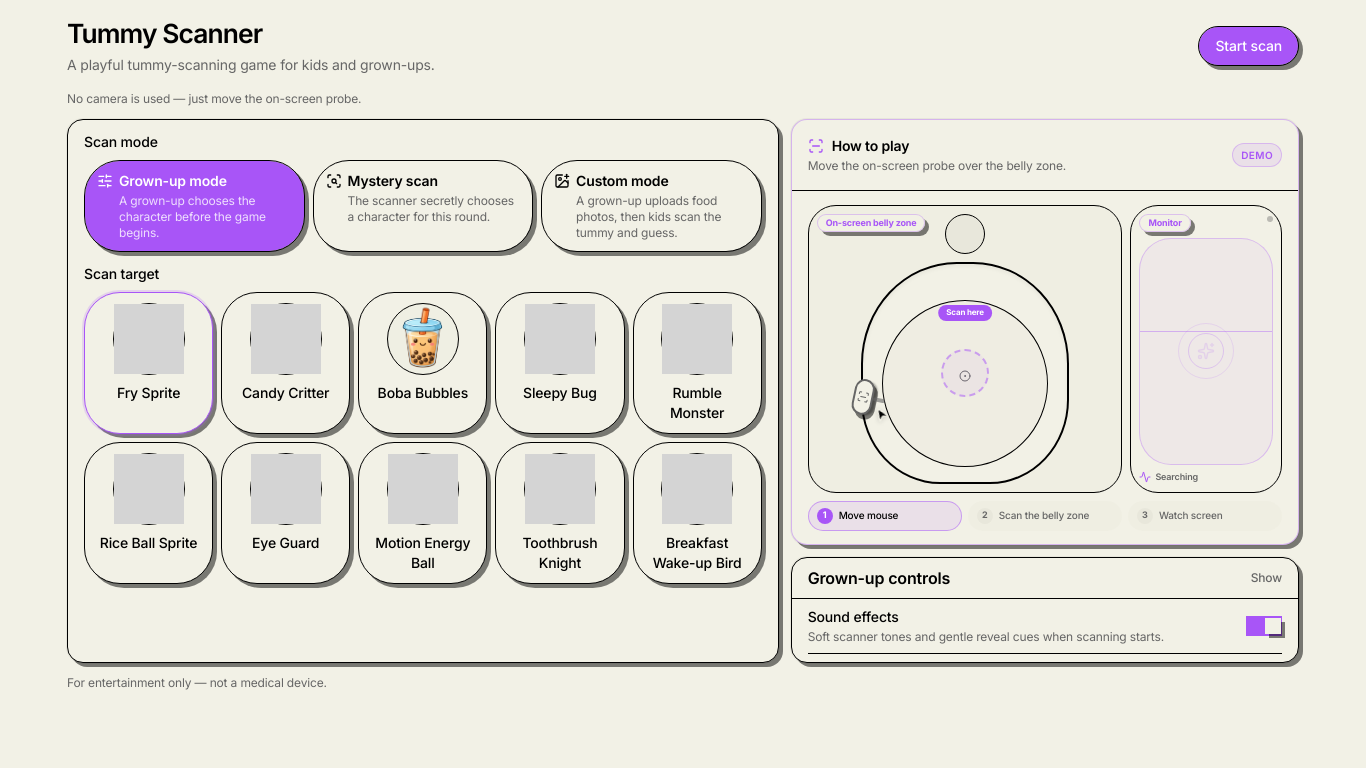
Test: DuduScannerApp controls › restarts scan with R
Click the button "Start scan": (1249, 46) [1198, 26, 1299, 66]
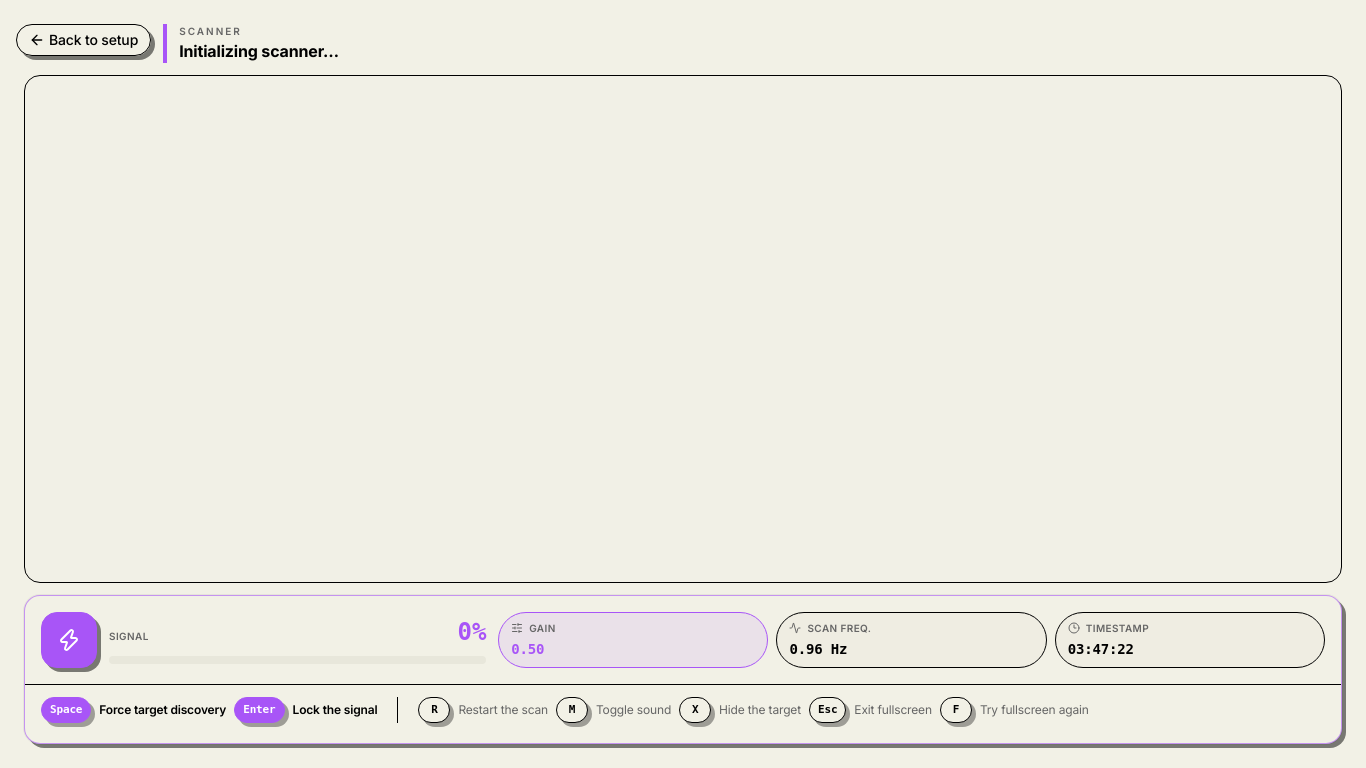
Expected: the element with test id "dudu-scanner-scan-view" is shown
Press Space
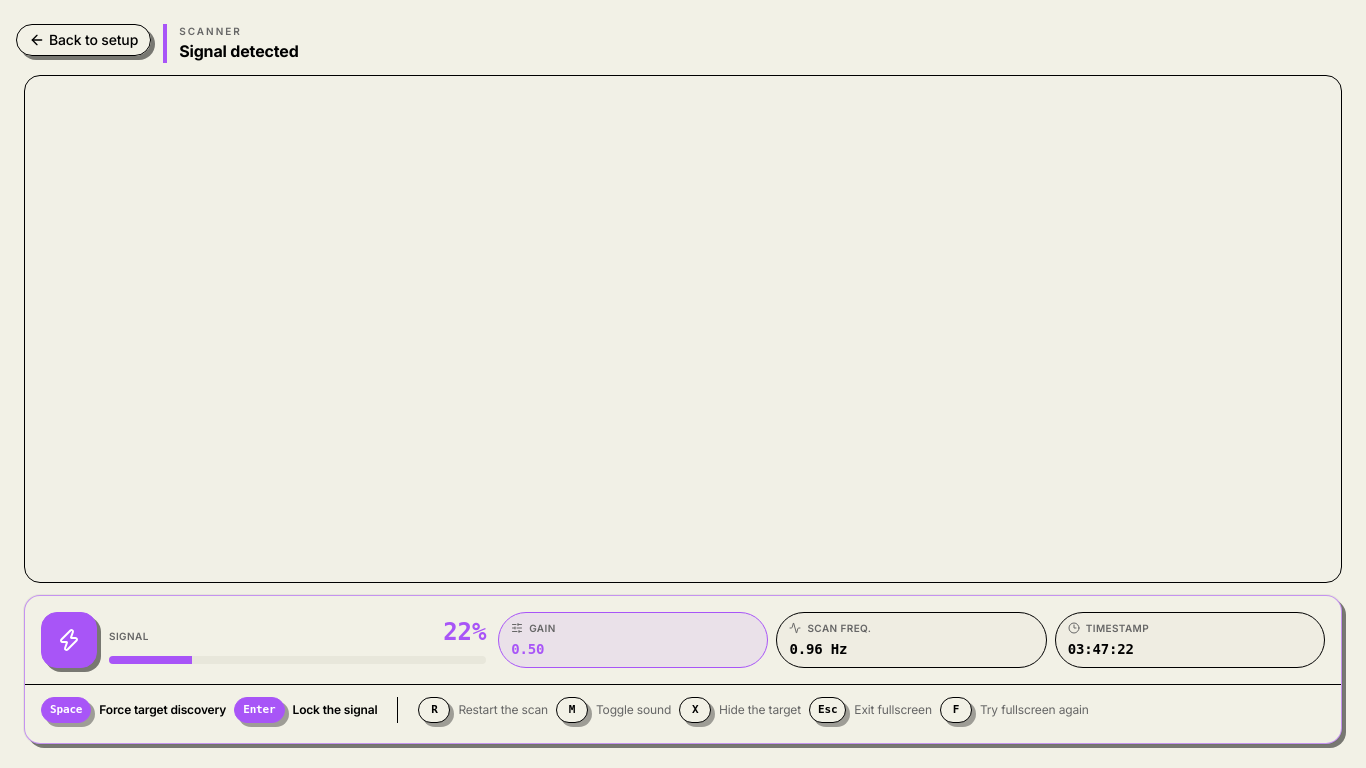
Press r
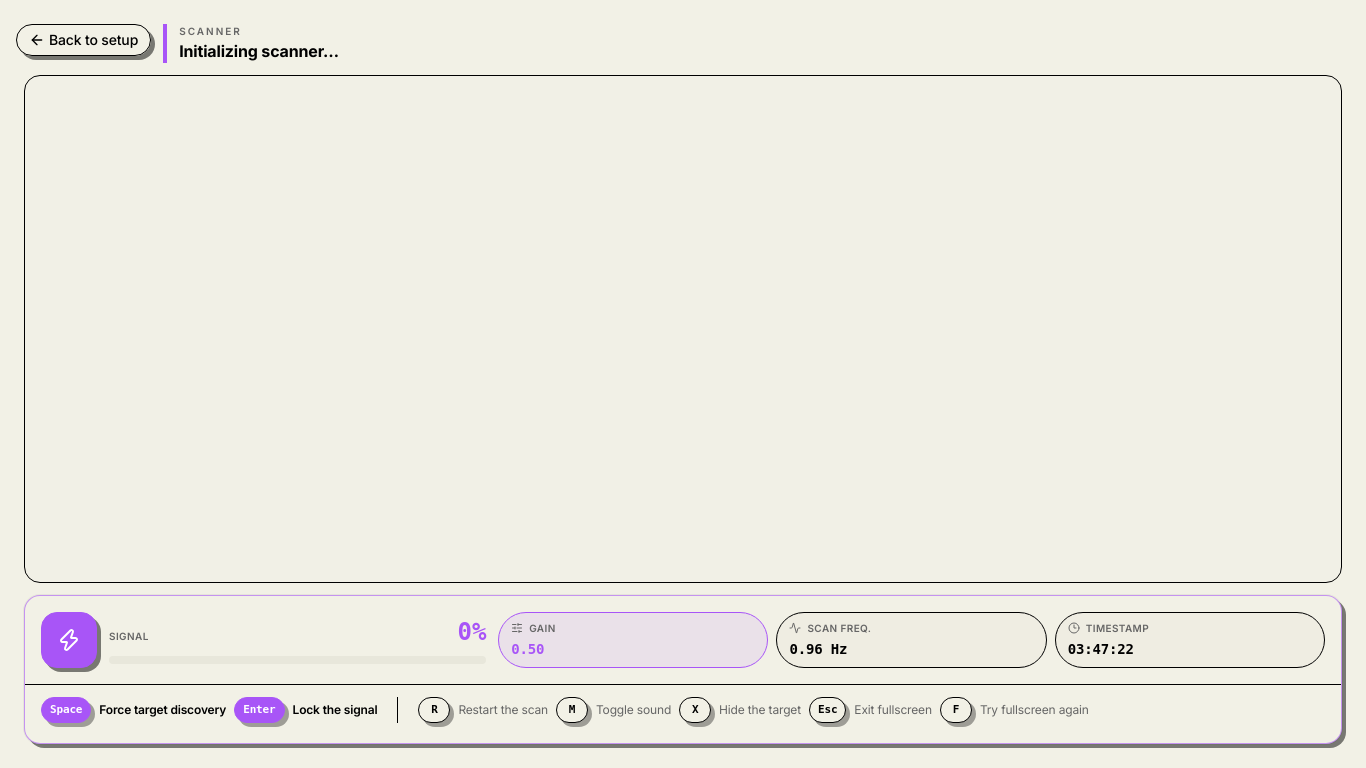
Expected: the text with test id "dudu-scanner-status" reads "Initializing scanner…", [179, 41, 339, 61]
